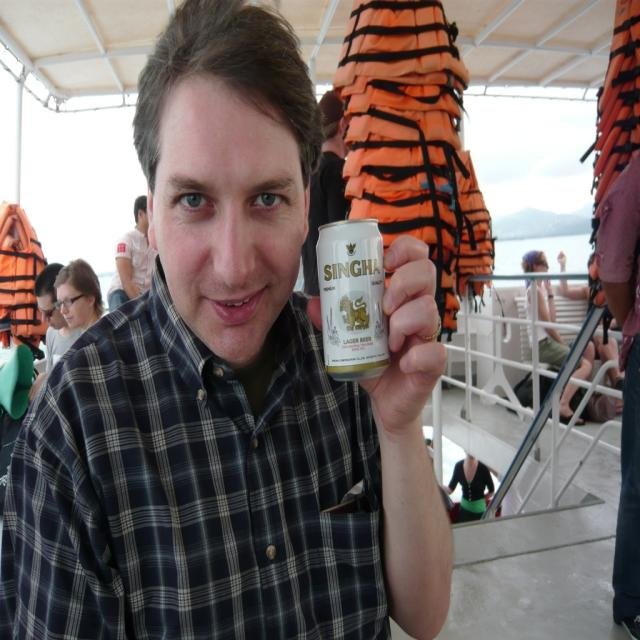singha: (320, 258, 390, 354)
